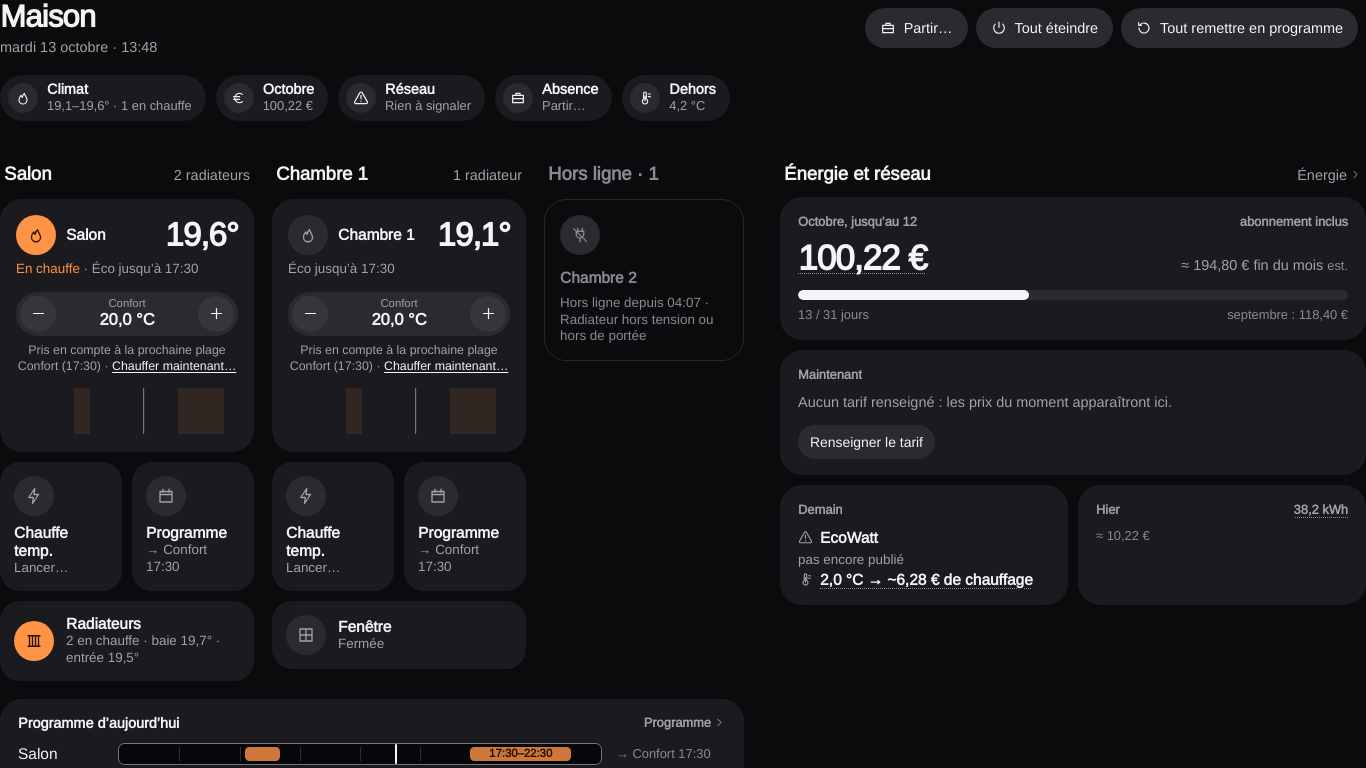
Test case: Maison « Demain »: tomorrow’s heating cost (Plan 15) › the line, and its Fiche with the forecast kWh, range and €
The width and height of the screenshot is (1366, 768).
Click the button with aria-label "de chauffage, détails": {"x": 926, "y": 579} [820,568,1033,590]
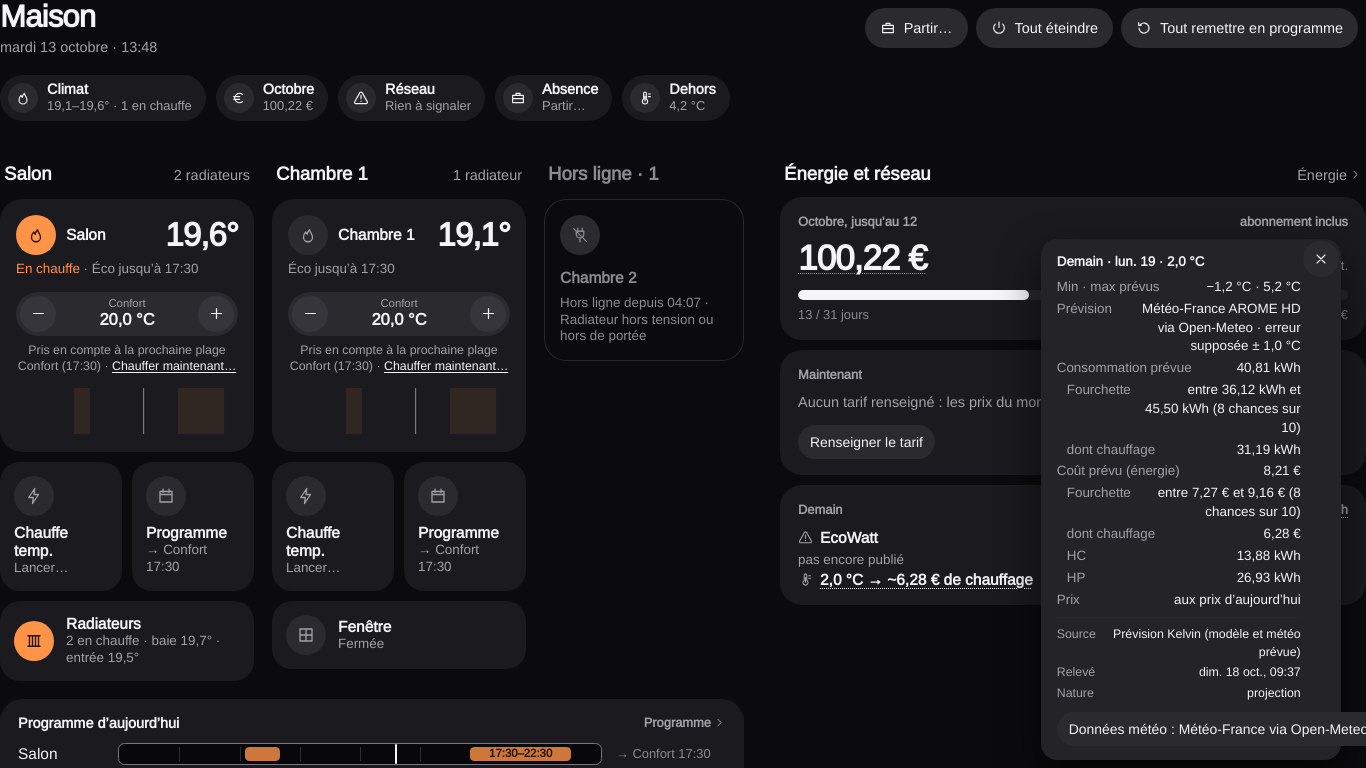
Expected: the text "Consommation prévue" is shown, [1057,359,1192,378]
Expected: the 1st text "Fourchette" is shown, [1057,381,1131,400]
Expected: the text "Coût prévu (énergie)" is shown, [1057,462,1180,481]
